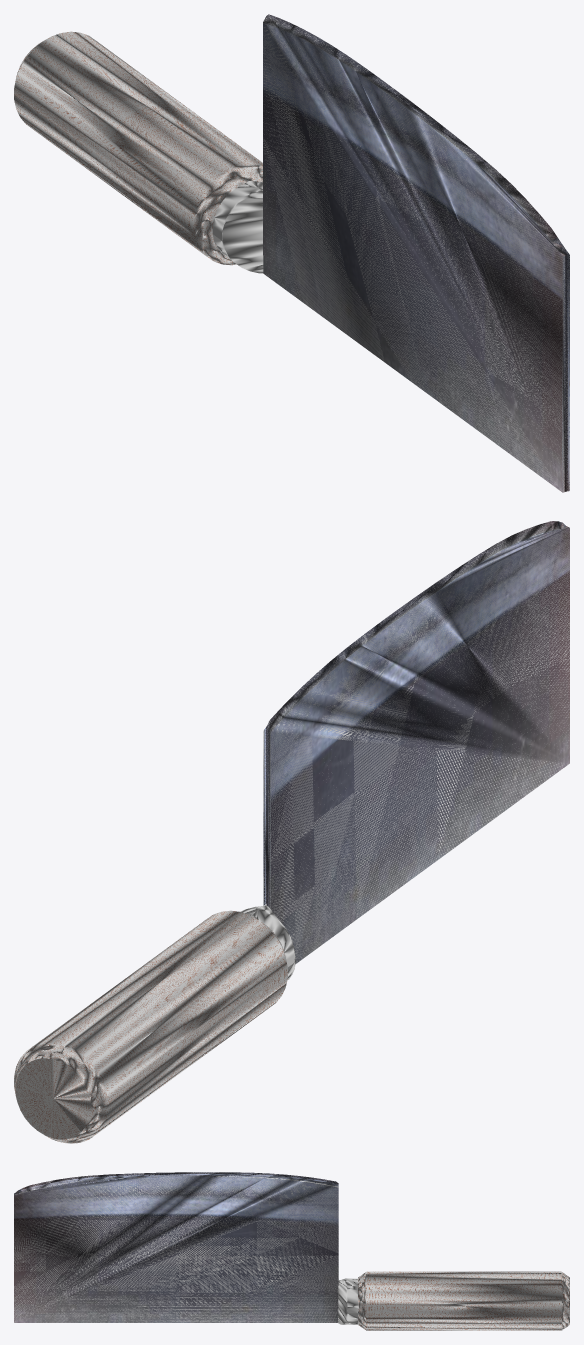
File: model_align.obj
3 views of the same model, one above another, from view 1: azimuth 30°, elevation 25°; view 2: azimuth 150°, elevation 25°; view 3: azimuth 270°, elevation 25° (orthographic). The views are drawn at different scales.
Bounding box in the file's own units: 0.0244 × 0.0713 × 0.2306.
Materials: 4 (4 with a texture image).
